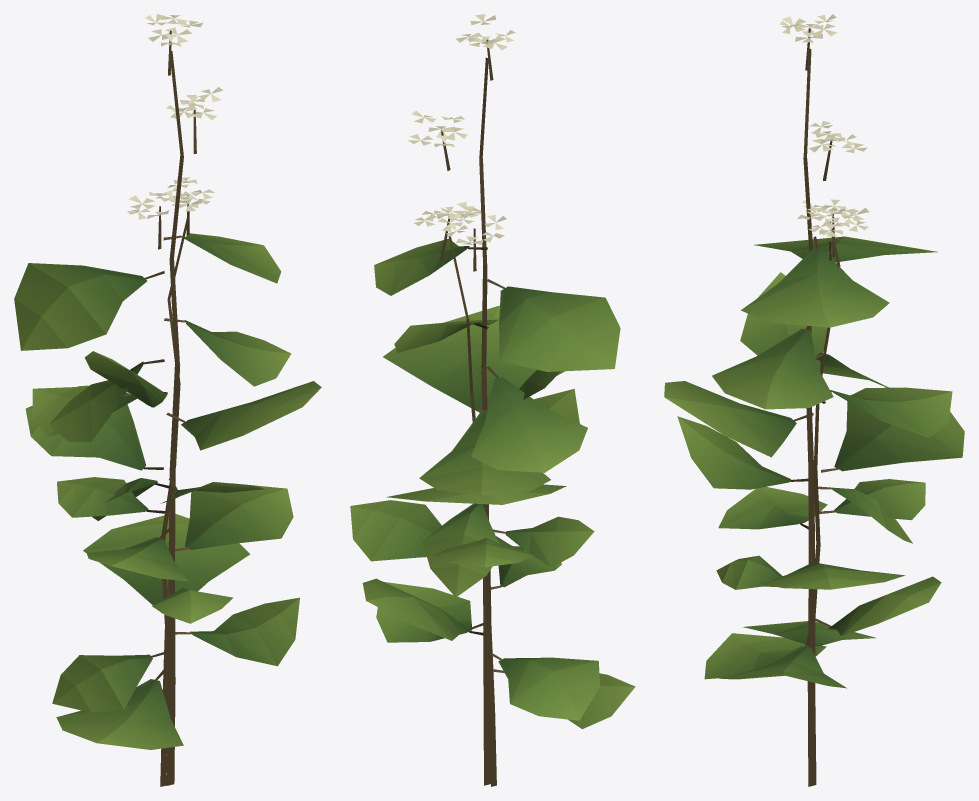
File: forest_shrub_001_a_LOD1.gltf
3 renders of one model, left to right at view 1: azimuth 30°, elevation 25°; view 2: azimuth 150°, elevation 25°; view 3: azimuth 270°, elevation 25°, orthographic.
Parts seen in each view (by area): view 1: forest_shrub_001_a_LOD1; view 2: forest_shrub_001_a_LOD1; view 3: forest_shrub_001_a_LOD1.
Part boxes in pixels (box(x1,y1,x2,y2)): forest_shrub_001_a_LOD1: box(14, 14, 321, 786); forest_shrub_001_a_LOD1: box(350, 14, 635, 786); forest_shrub_001_a_LOD1: box(664, 14, 964, 786).
Bounding box in the file's own units: 0.5536 × 1.52 × 0.5373.
1 material, 1 textured.
